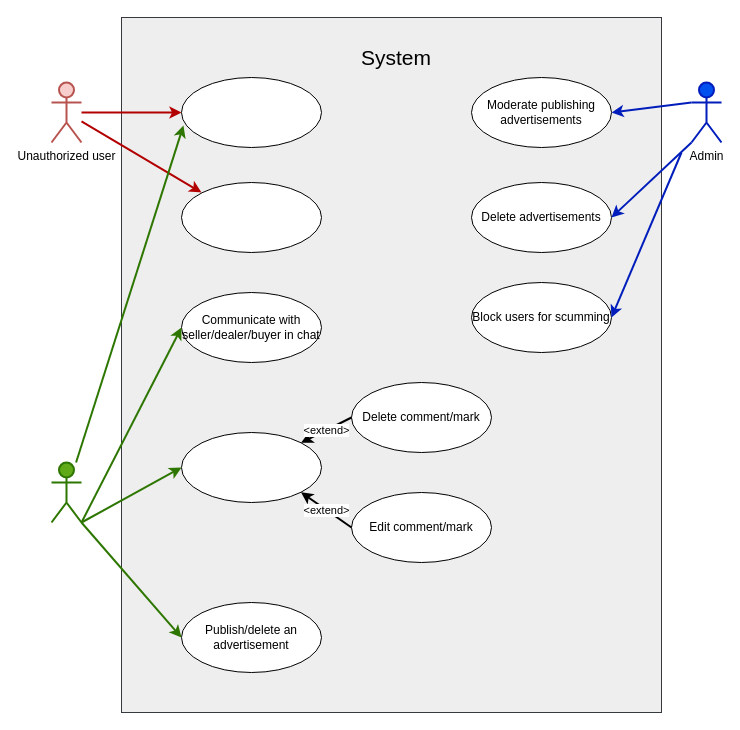
This 740x730 diagram has some shape labels left out. Here are the shapes that lost their labels. From the top down, the centre of each, then its label:
At (251,112): "Watch the advertisement".
At (251,217): "Watch info about seller/dealer".
At (251,467): "Write comments and marks under advertisement".
At (66,492): "Authorized user".
